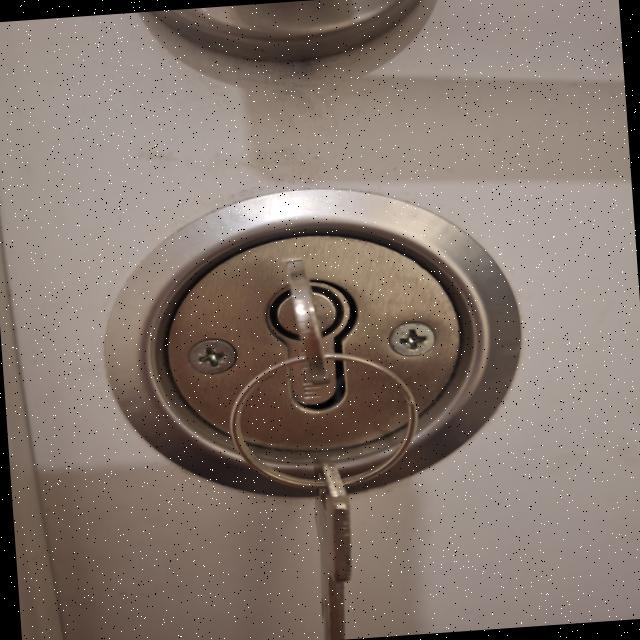Phillips: (387, 323, 437, 360), (184, 338, 236, 373)
